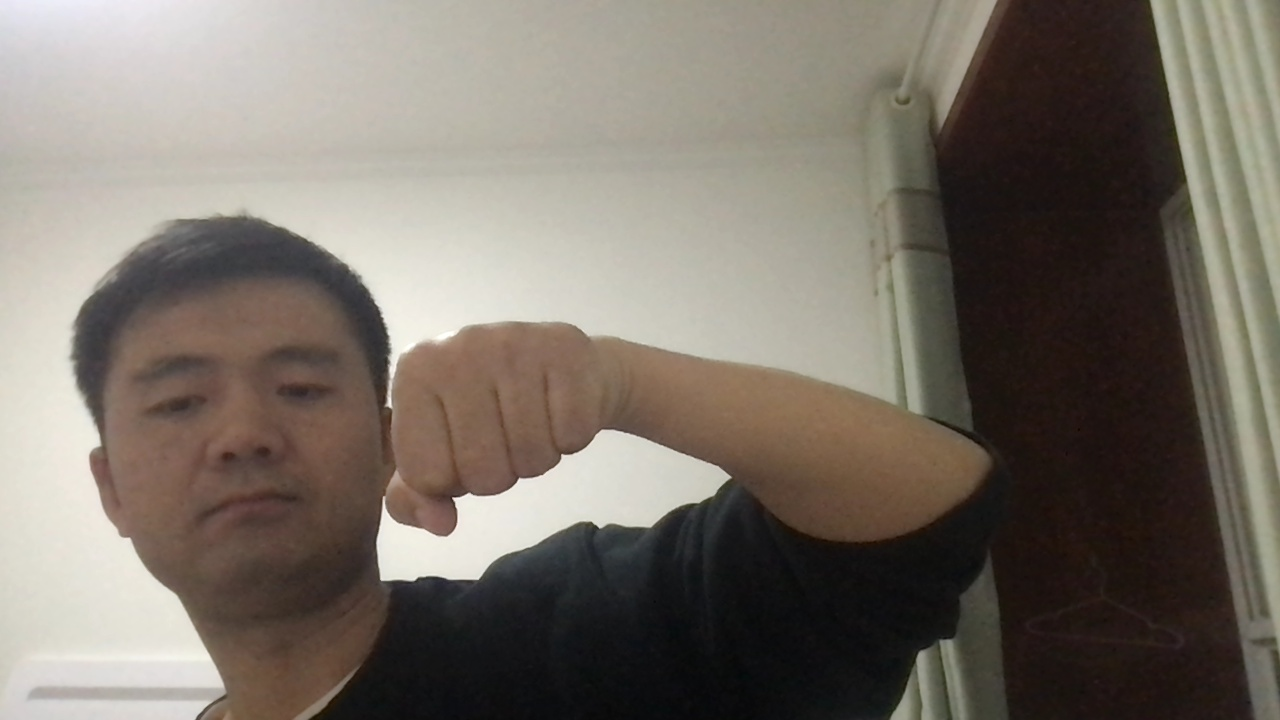ok: (377, 314, 633, 541)
